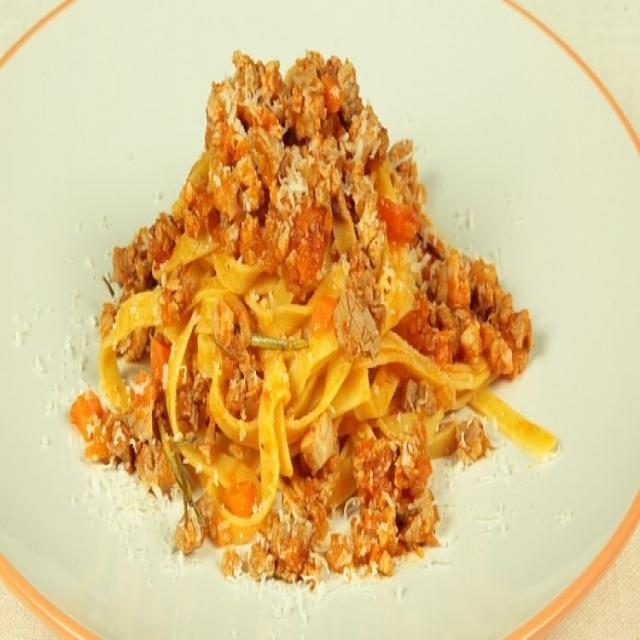Pasta al ragu: (86, 9, 563, 595)
